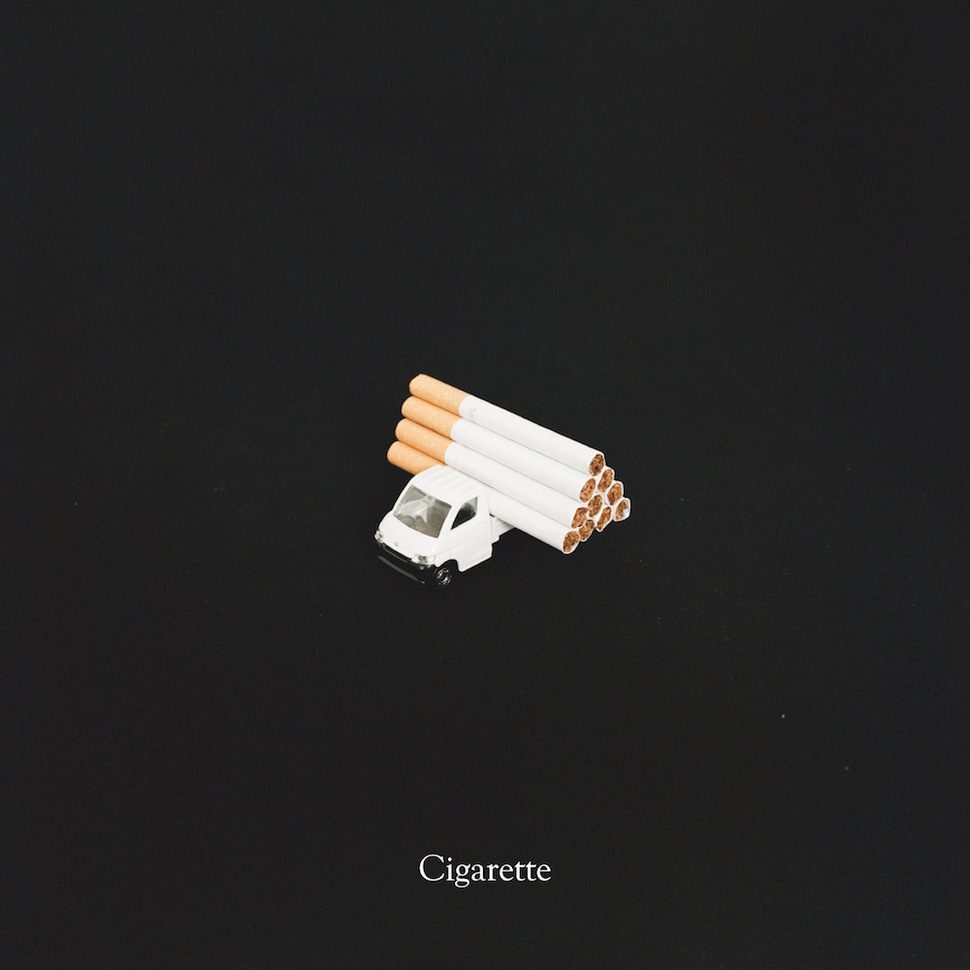cigarette: (388, 375, 638, 556)
